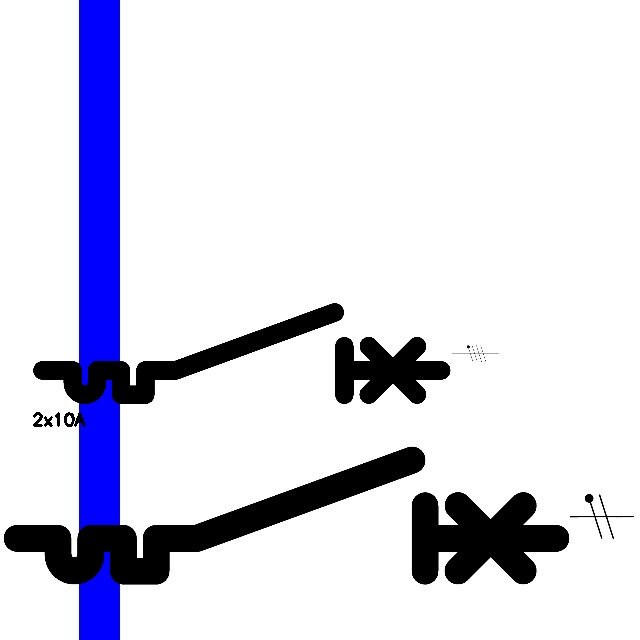interruptor_termomagnetico: (3, 446, 570, 585), (32, 302, 452, 405)
